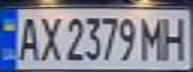2: (63, 12, 84, 62)
3: (81, 14, 103, 61)
7: (100, 14, 121, 61)
9: (115, 14, 139, 61)
A: (12, 12, 42, 62)
H: (157, 12, 193, 62)
M: (136, 14, 169, 62)
X: (36, 12, 63, 62)
